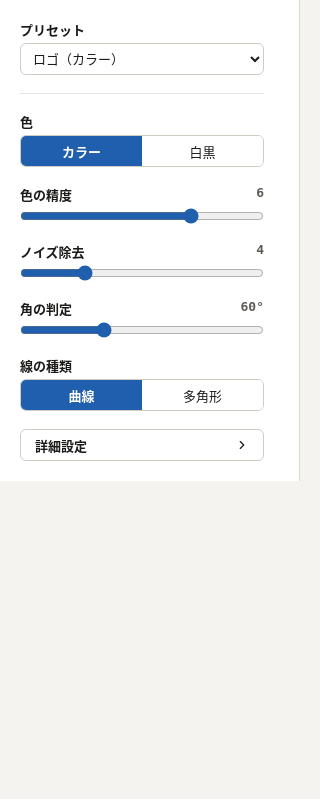
ParamsPanel › toggles advanced settings expansion
Expected: the field labelled "座標の精度" is not shown
Click the button "詳細設定" at [142, 445], box [20,429,264,461]
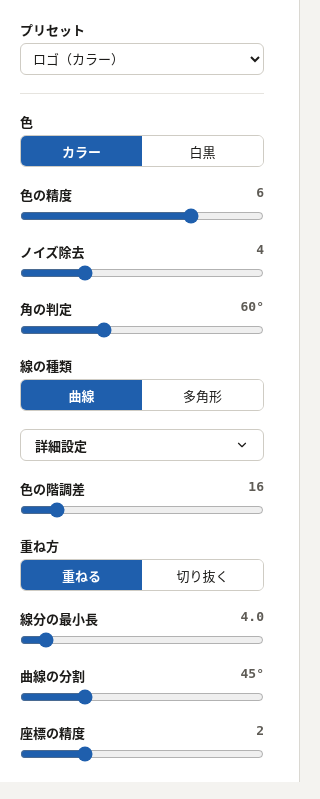
Expected: the button "詳細設定" is expanded
Expected: the slider labelled "座標の精度 2" is shown, [20,746,264,762]
Click the button "詳細設定" at [142, 445], box [20,429,264,461]
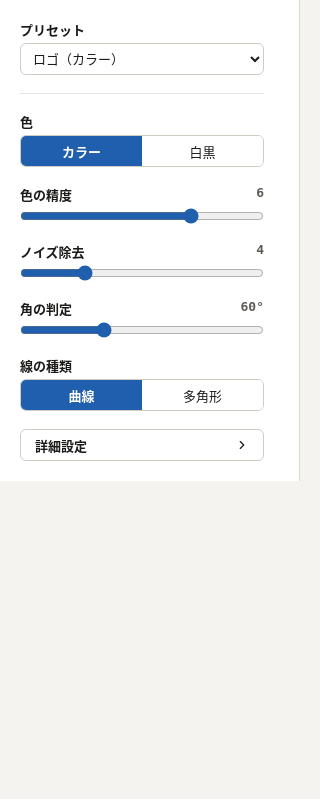
Expected: the button "詳細設定" is collapsed, [20,429,264,461]
Expected: the text labelled "座標の精度" is gone
